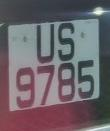5: (75, 55, 96, 105)
7: (36, 63, 59, 108)
8: (56, 59, 78, 107)
9: (14, 64, 37, 111)
S: (52, 19, 78, 63)
U: (33, 20, 59, 68)
